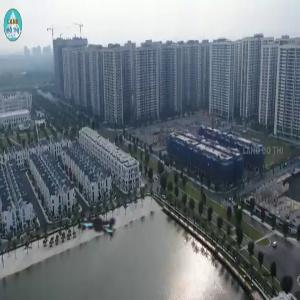drone: (48, 171, 151, 274)
